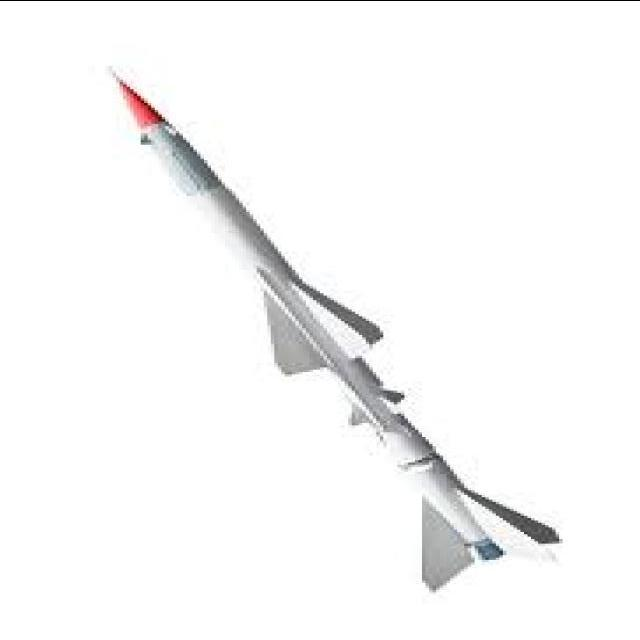Missile: (92, 77, 578, 589)
